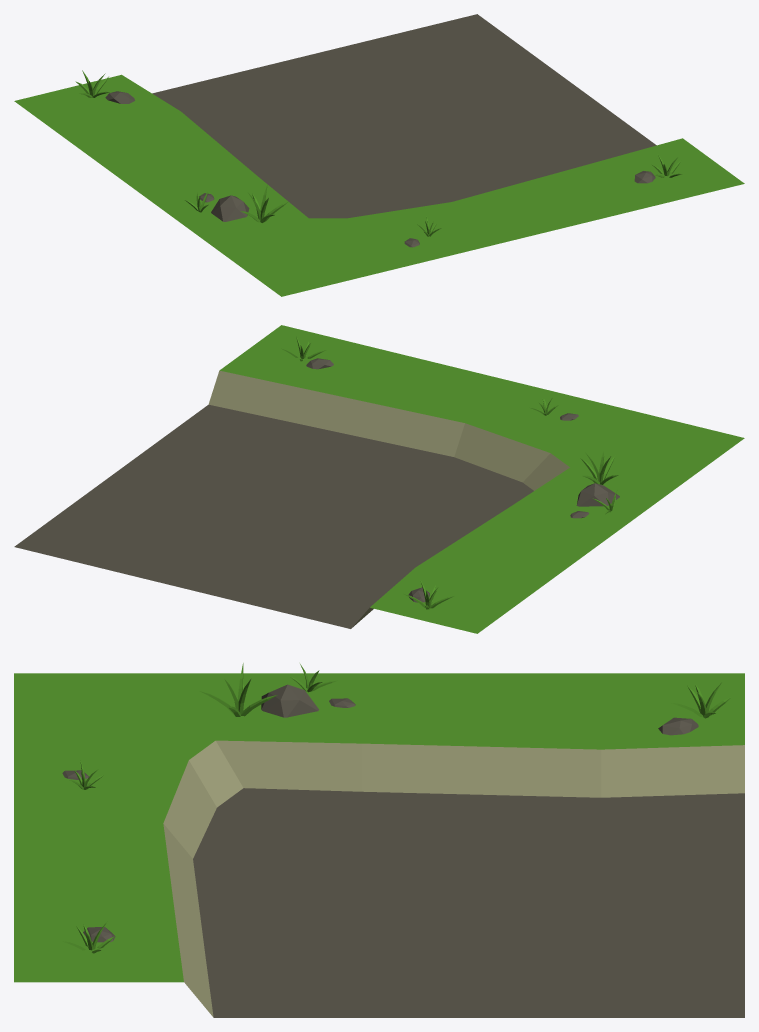
File: CemeteryCorner.fbx
3 views of the same model, one above another, from view 1: azimuth 30°, elevation 25°; view 2: azimuth 150°, elevation 25°; view 3: azimuth 270°, elevation 25° (orthographic). The views are drawn at different scales.
Parts seen in each view (by area): view 1: CemeteryCorner; view 2: CemeteryCorner; view 3: CemeteryCorner.
Part boxes in pixels (x1,y1,x2,y2): CemeteryCorner: (14, 14, 744, 296); CemeteryCorner: (14, 325, 744, 633); CemeteryCorner: (14, 663, 744, 1017).
Bounding box in the file's own units: 500 × 60 × 500.
